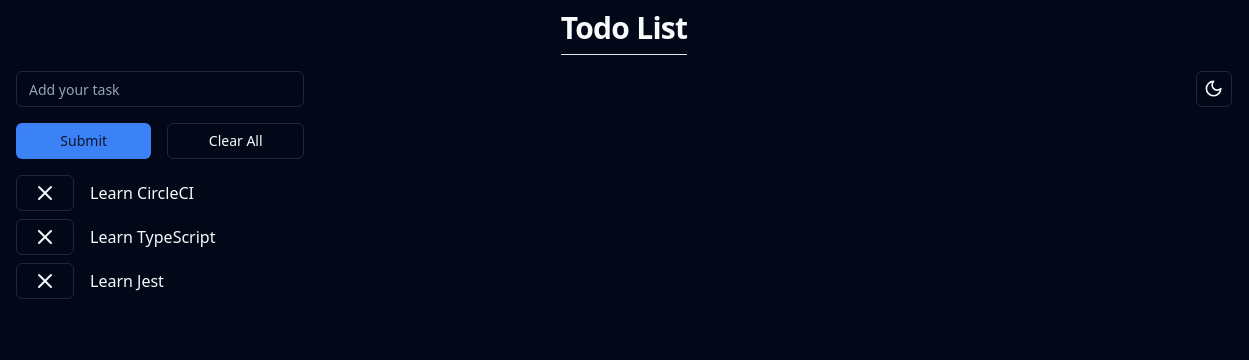
Todo Component › can add a new task
Type "New task" into the field with placeholder "Add your task" at (160, 89), box [16,71,304,107]
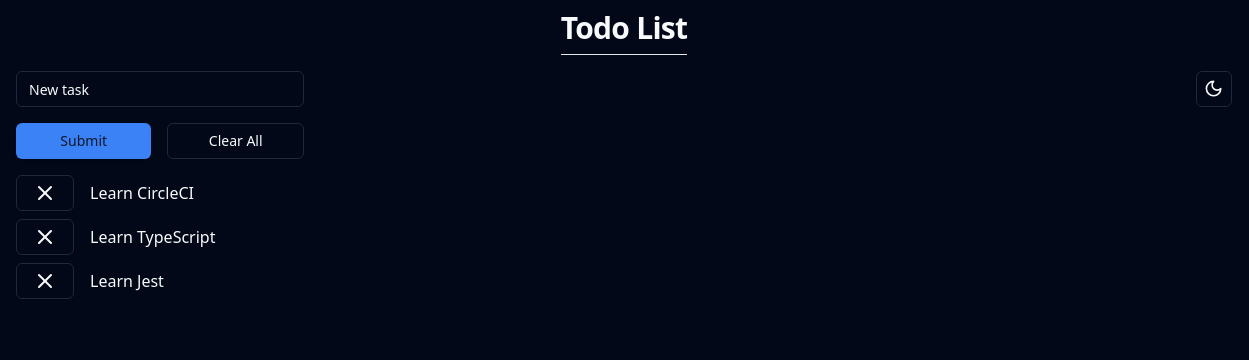
Click the button "Submit" at (84, 141), box [16,123,151,159]
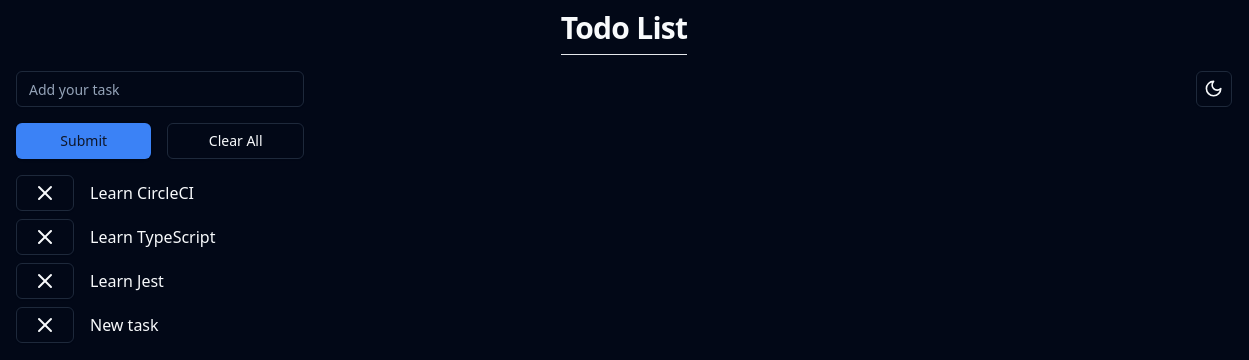
Check: the text "New task" is shown, box [90,313,159,337]
